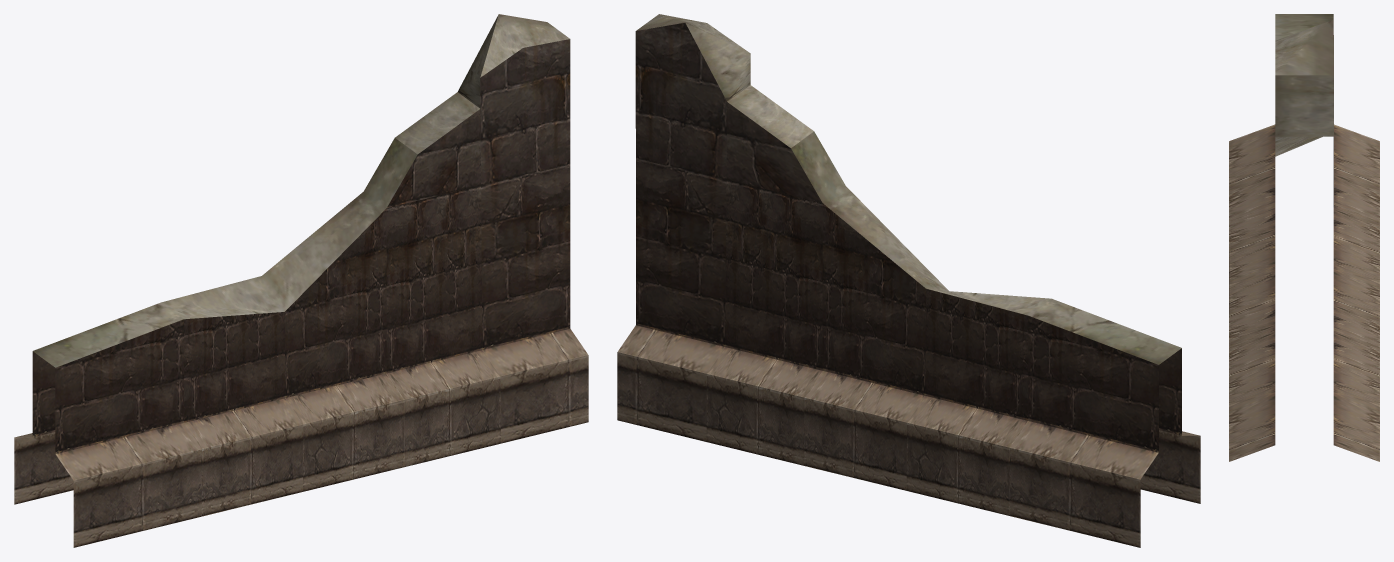
File: rysd_qm_04.FBX
3 views of the same model, side by side, from view 1: azimuth 30°, elevation 25°; view 2: azimuth 150°, elevation 25°; view 3: azimuth 270°, elevation 25° (orthographic). The views are drawn at different scales.
Visible parts, largest first — view 1: rysd_qm_04; view 2: rysd_qm_04; view 3: rysd_qm_04.
Part boxes in pixels (x1,y1,x2,y2): rysd_qm_04: (14,14,588,547); rysd_qm_04: (617,14,1200,547); rysd_qm_04: (1229,14,1379,461).
Bounding box in the file's own units: 803 × 581 × 160.
